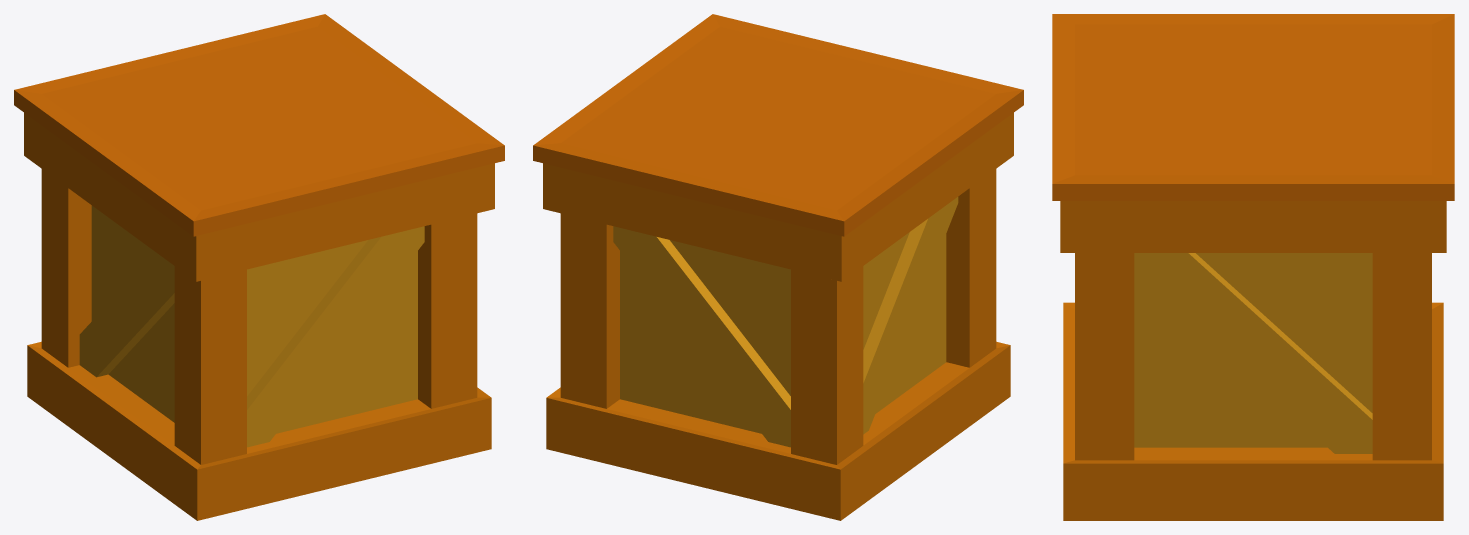
The model's file is WoodBox.fbx.
The picture shows the model from 3 angles, left to right: view 1: azimuth 30°, elevation 25°; view 2: azimuth 150°, elevation 25°; view 3: azimuth 270°, elevation 25°; orthographic projection. The views are drawn at different scales.
Visible parts, largest first — view 1: Wood Box; view 2: Wood Box; view 3: Wood Box.
Boxes of the visible parts, x1,y1,x2,y2 form: Wood Box: [14, 14, 504, 520]; Wood Box: [533, 14, 1023, 520]; Wood Box: [1052, 14, 1454, 520].
Bounding box in the file's own units: 225 × 211 × 225.
